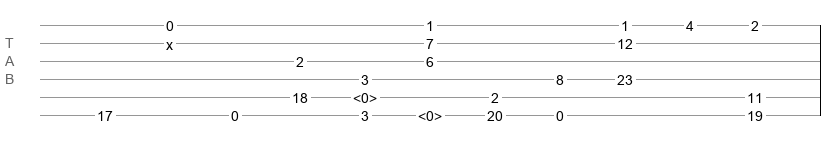0: (166, 18, 174, 28), (231, 108, 239, 118), (556, 108, 564, 118)
1: (426, 18, 434, 28), (621, 18, 629, 28)
11: (747, 90, 763, 100)
12: (617, 36, 633, 46)
17: (97, 108, 113, 118)
18: (292, 90, 308, 100)
19: (747, 108, 763, 118)
2: (296, 54, 304, 64), (491, 90, 499, 100), (751, 18, 759, 28)
20: (487, 108, 503, 118)
23: (617, 72, 633, 82)
3: (361, 108, 369, 118), (361, 72, 369, 82)
4: (686, 18, 694, 28)
6: (426, 54, 434, 64)
7: (426, 36, 434, 46)
8: (556, 72, 564, 82)
harmonic: (353, 90, 377, 100), (418, 108, 442, 118)
x: (166, 37, 173, 45)
